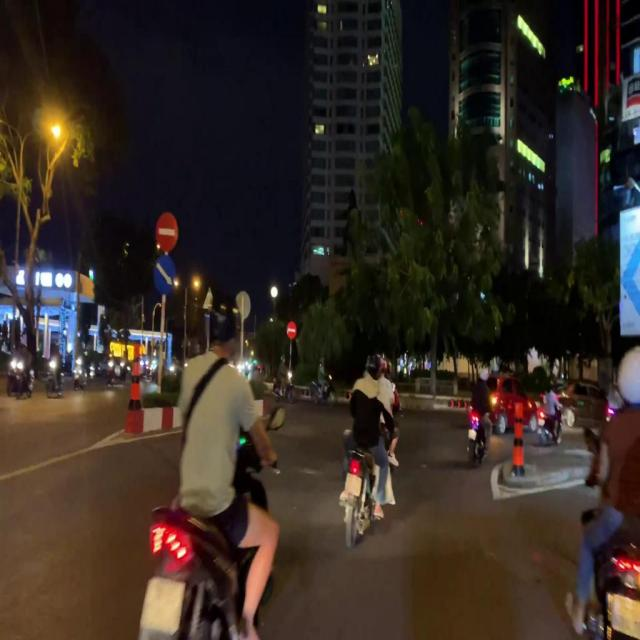cam_xe_di_nguoc_chieu: (157, 213, 178, 250), (286, 322, 297, 340)
huong_phai_di_vuot_chuong_ngai_vat_phai: (154, 258, 174, 296)
